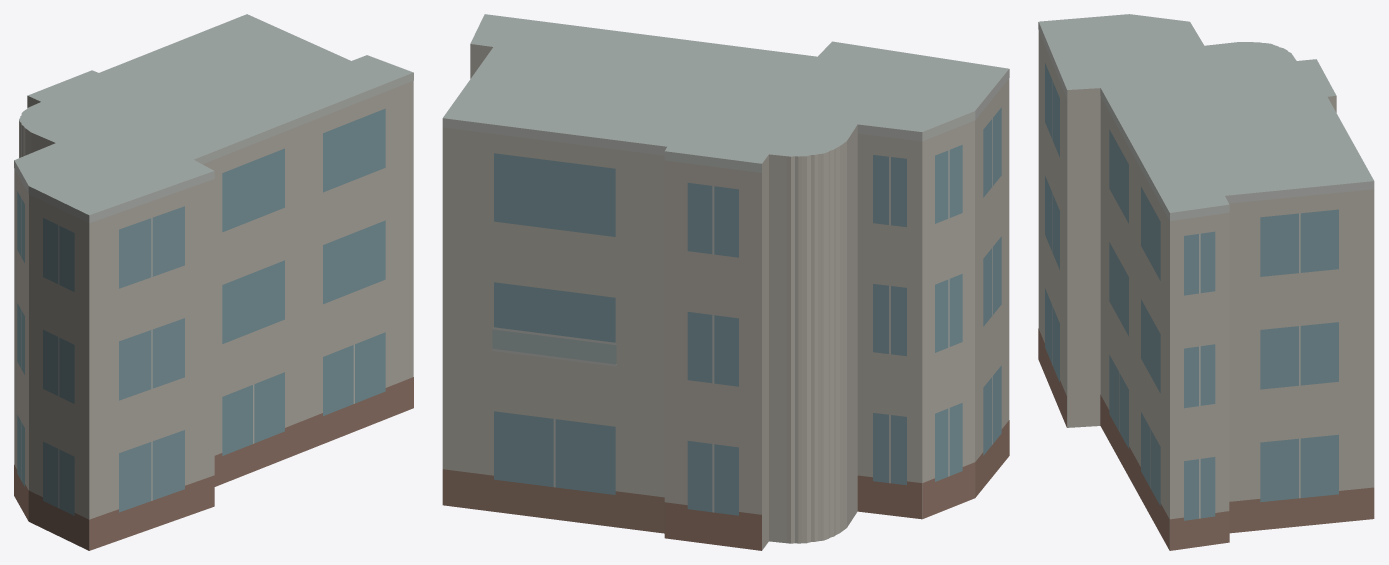
Rendered from survey-upis-32644444.glb.
3 views of the same model, side by side, from view 1: azimuth 30°, elevation 25°; view 2: azimuth 150°, elevation 25°; view 3: azimuth 270°, elevation 25° (orthographic). The views are drawn at different scales.
Visible parts, largest first — view 1: survey-upis-32644444.tmp; view 2: survey-upis-32644444.tmp; view 3: survey-upis-32644444.tmp.
Part boxes in pixels (x1,y1,x2,y2): survey-upis-32644444.tmp: (14, 14, 413, 550); survey-upis-32644444.tmp: (442, 14, 1009, 550); survey-upis-32644444.tmp: (1038, 14, 1374, 550).
Bounding box in the file's own units: 12.9 × 10.2 × 9.2.
